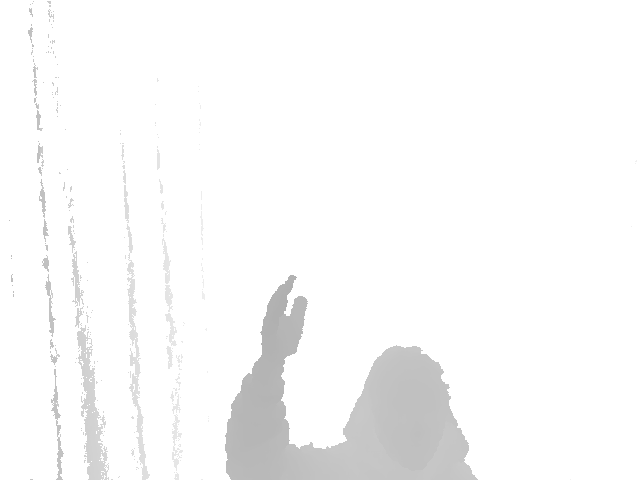hand: (260, 276, 308, 363)
head: (343, 346, 469, 459)
person: (223, 274, 476, 478)
